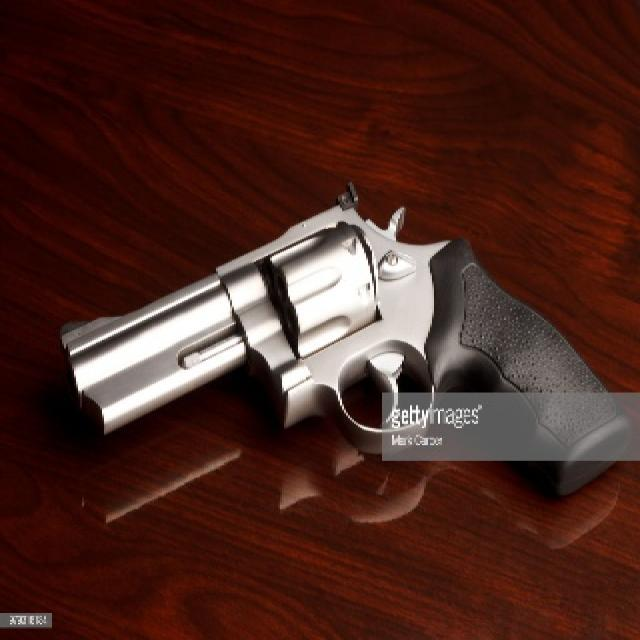handgun: (34, 156, 628, 505)
